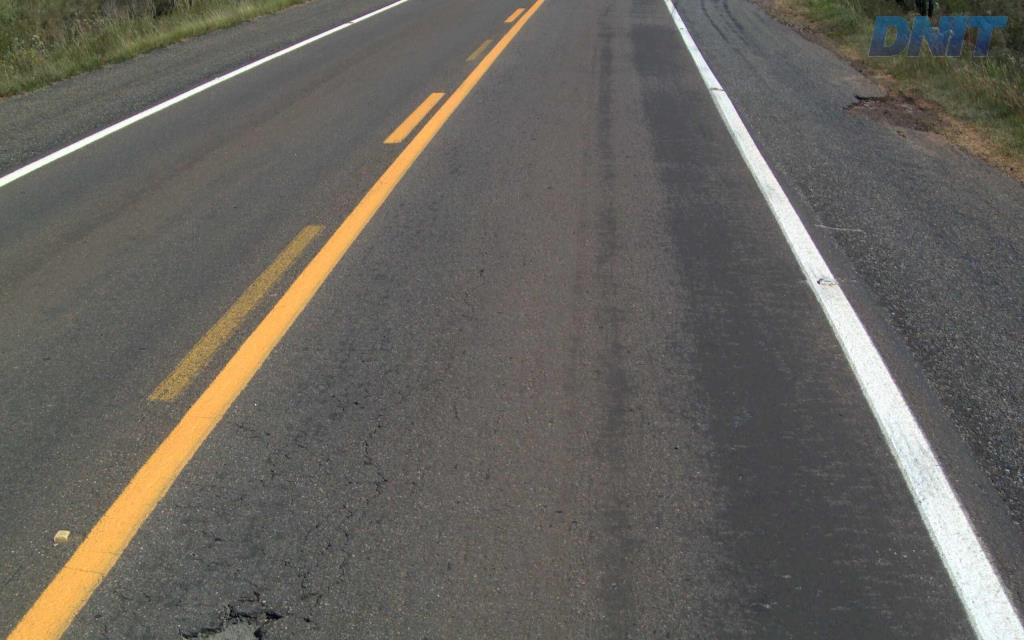pothole: (176, 595, 286, 638)
